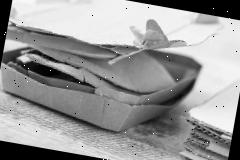paper: (0, 0, 240, 160), (0, 22, 203, 143), (4, 0, 224, 80), (172, 67, 240, 160), (176, 149, 228, 160)
